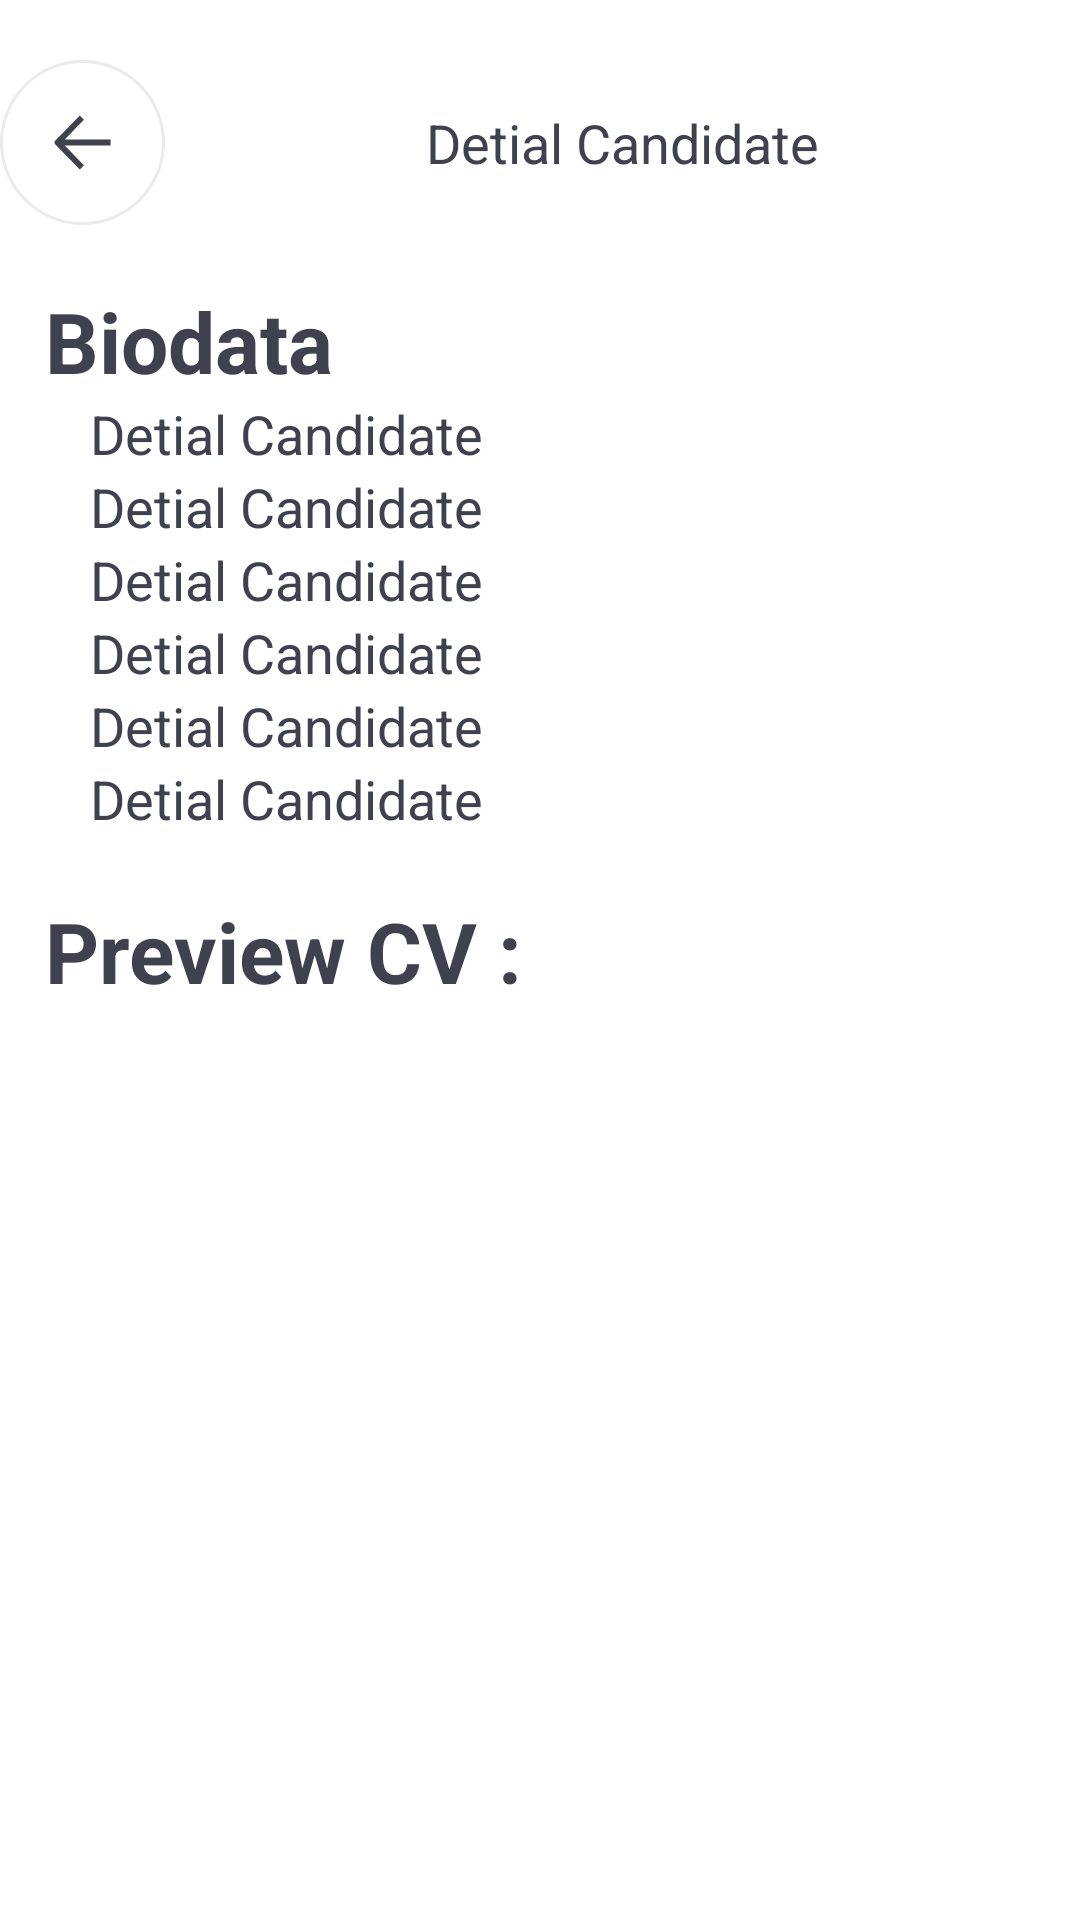

Icons on this 1080 x 1920 Android screen, each with the point to tap as (x,y):
back: (82,142)
